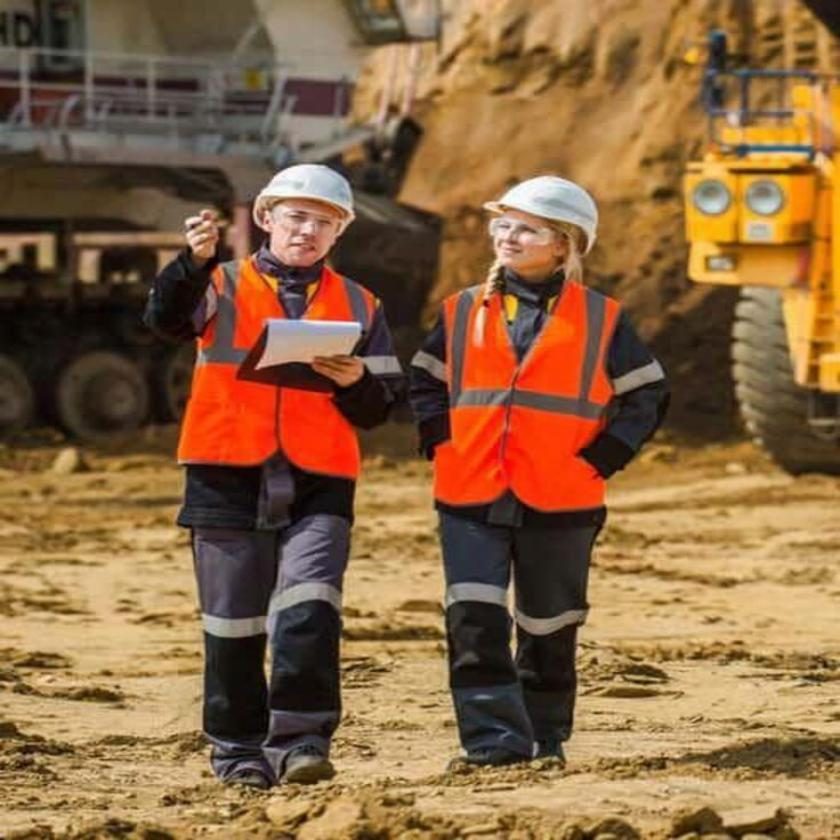Con_casco: (481, 175, 600, 294), (247, 162, 362, 280)
